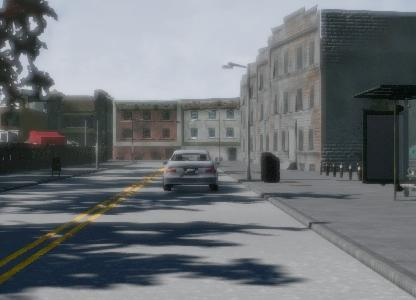Speed_60: (379, 87, 416, 128)
